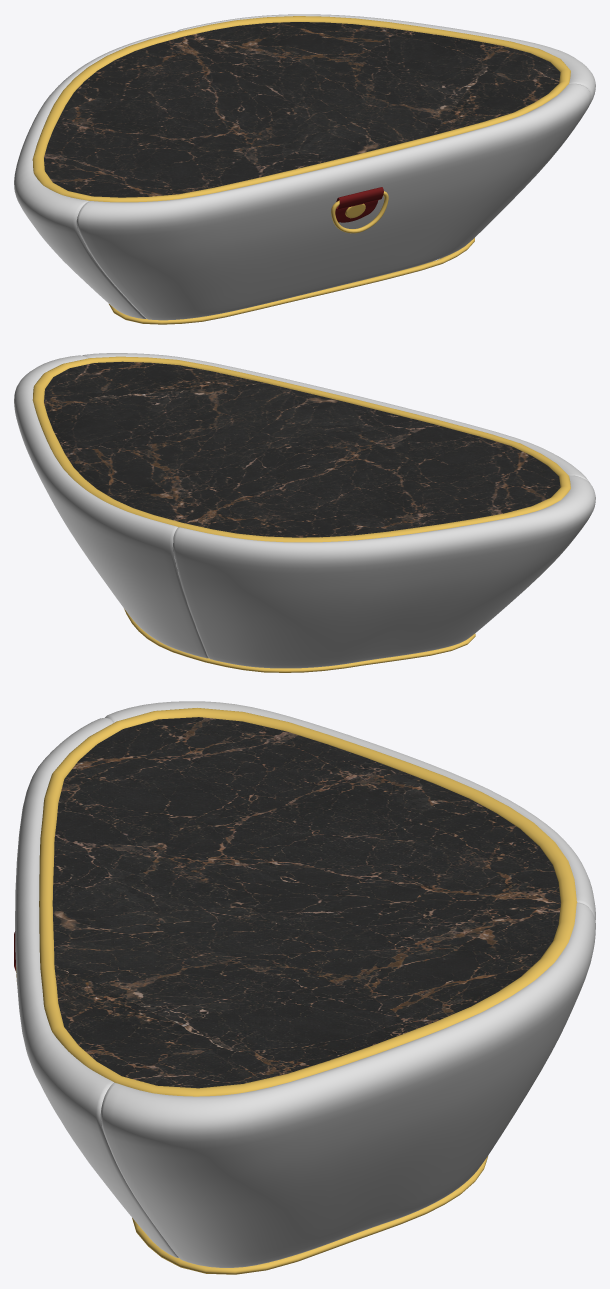
The model's file is SLN_TRILOGY_BIG.glb.
The picture shows the model from 3 angles, top to bottom: view 1: azimuth 30°, elevation 25°; view 2: azimuth 150°, elevation 25°; view 3: azimuth 270°, elevation 25°; orthographic projection. The views are drawn at different scales.
Parts seen in each view (by area): view 1: TRILOGY_BIG; view 2: TRILOGY_BIG; view 3: TRILOGY_BIG.
Boxes of the visible parts, bbox=[...] form: TRILOGY_BIG: bbox=[14, 14, 595, 324]; TRILOGY_BIG: bbox=[14, 353, 595, 672]; TRILOGY_BIG: bbox=[14, 701, 595, 1274].
Bounding box in the file's own units: 1.21 × 0.3293 × 0.7105.
Materials: 4 (1 with a texture image).
